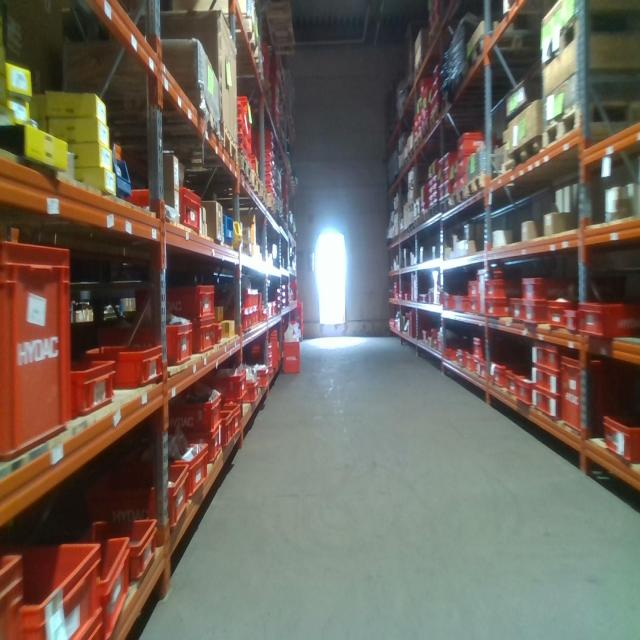pallet: (56, 94, 217, 184), (542, 7, 639, 72), (542, 100, 639, 151), (469, 31, 539, 77), (238, 9, 263, 78), (504, 134, 540, 177), (217, 126, 238, 182), (225, 153, 253, 193), (242, 169, 267, 210), (464, 171, 488, 203), (262, 191, 281, 223), (497, 1, 527, 19), (452, 184, 465, 210), (438, 191, 449, 220)
small_load_carrier: (0, 245, 70, 447), (26, 543, 101, 638), (106, 463, 190, 534), (82, 343, 161, 395), (77, 515, 156, 567), (563, 358, 612, 429), (155, 389, 223, 434), (125, 190, 204, 228), (74, 353, 116, 421), (100, 539, 129, 634), (118, 324, 194, 359), (143, 285, 216, 321), (143, 445, 206, 485), (156, 425, 222, 462), (578, 303, 638, 334), (602, 413, 638, 464), (2, 555, 22, 636), (478, 269, 509, 315), (202, 368, 246, 400), (526, 276, 578, 301), (521, 296, 557, 328), (530, 344, 571, 372), (530, 365, 566, 396), (534, 389, 565, 421), (220, 399, 239, 447), (194, 322, 218, 358), (491, 359, 518, 390), (485, 275, 521, 298), (473, 335, 506, 360), (483, 296, 509, 323), (548, 296, 568, 329), (563, 305, 586, 333), (508, 365, 530, 392), (456, 135, 495, 149), (282, 343, 300, 373), (516, 378, 531, 409), (454, 148, 473, 171), (220, 411, 231, 446), (510, 301, 526, 325), (474, 360, 492, 380), (465, 276, 483, 294), (248, 379, 259, 407), (454, 172, 469, 190), (85, 626, 104, 640), (467, 293, 481, 310), (453, 297, 467, 314), (243, 310, 251, 331), (466, 356, 476, 372), (260, 366, 268, 386)
